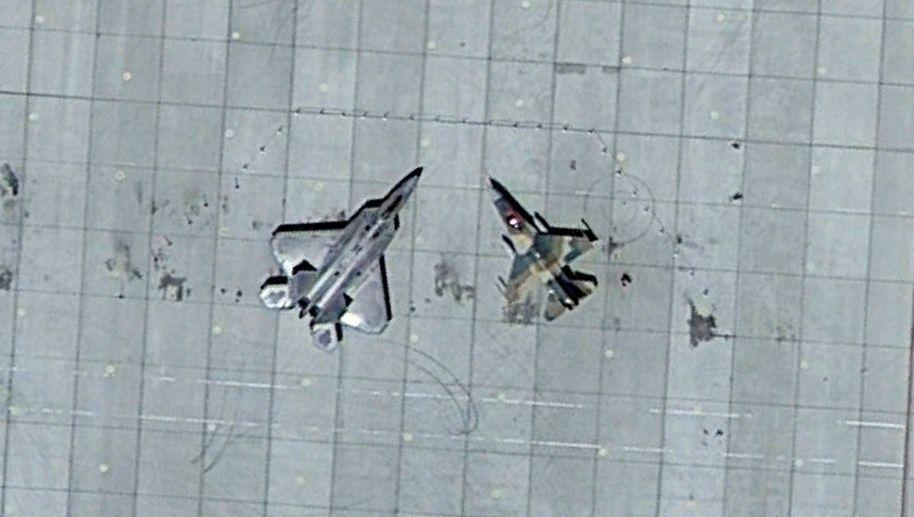F-16: (477, 170, 600, 324)
F-22: (254, 151, 431, 357)
